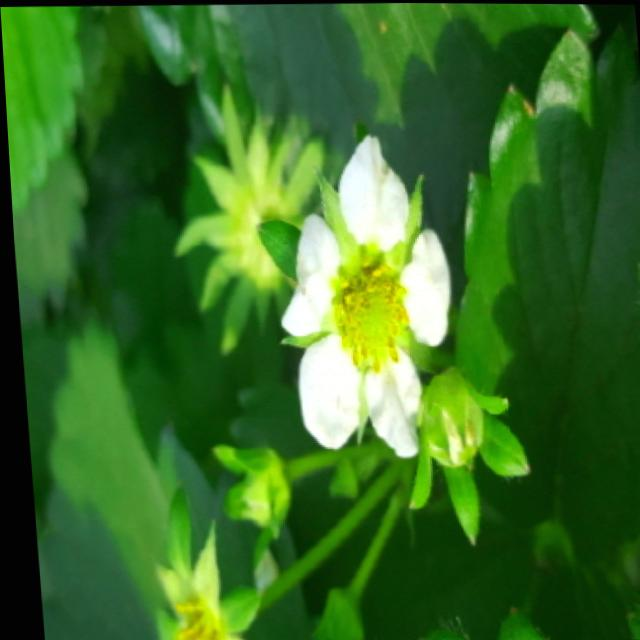Blossom Blight: (321, 237, 410, 379)
